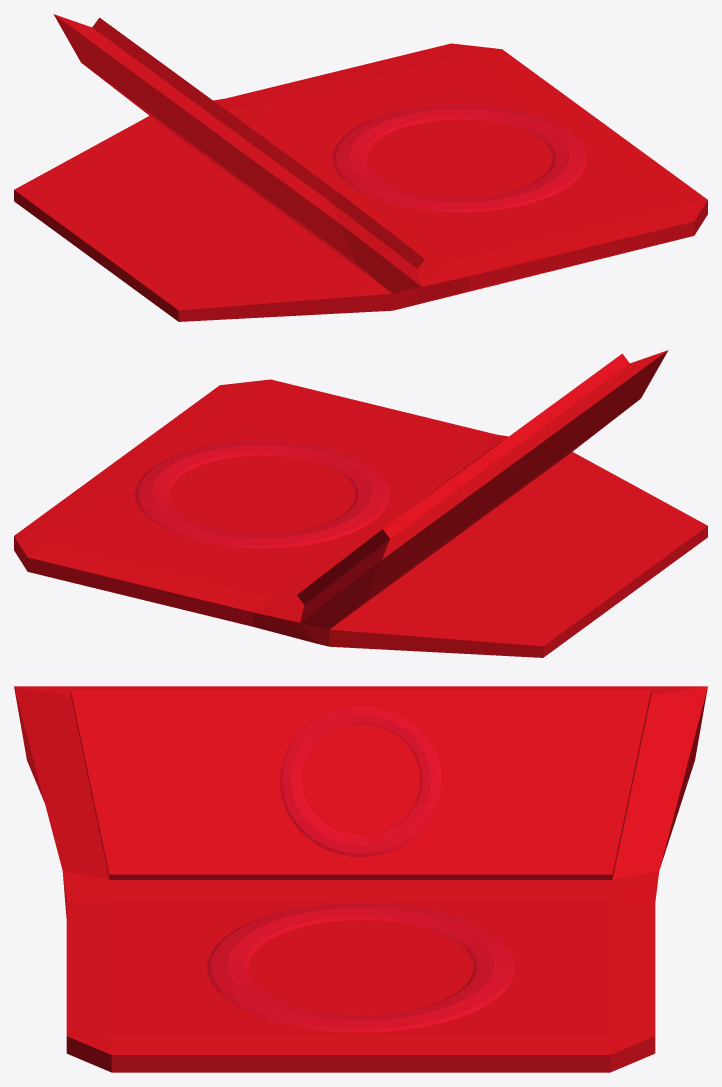
The model's file is Ramp (2).fbx.
3 views of the same model, one above another, from view 1: azimuth 30°, elevation 25°; view 2: azimuth 150°, elevation 25°; view 3: azimuth 270°, elevation 25° (orthographic). The views are drawn at different scales.
Parts seen in each view (by area): view 1: Cube, Torus.001; view 2: Cube, Torus.001; view 3: Cube, Torus.001, Torus.002.
Part boxes in pixels (x1,y1,x2,y2): Cube: (14, 14, 707, 321); Torus.001: (332, 105, 586, 212); Cube: (14, 350, 707, 657); Torus.001: (135, 441, 389, 548); Cube: (14, 686, 707, 1072); Torus.001: (207, 902, 514, 1032); Torus.002: (280, 706, 441, 857).
Size of the model in its own units: 1110 by 276 by 1083.
